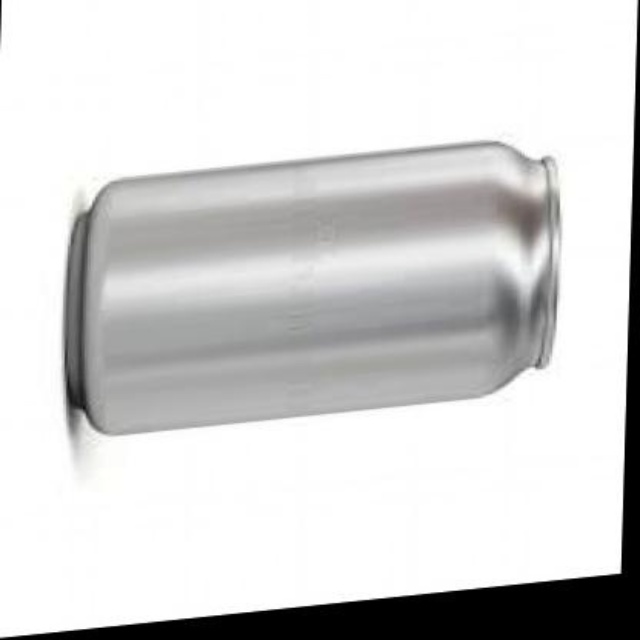trash: (65, 142, 558, 432)
